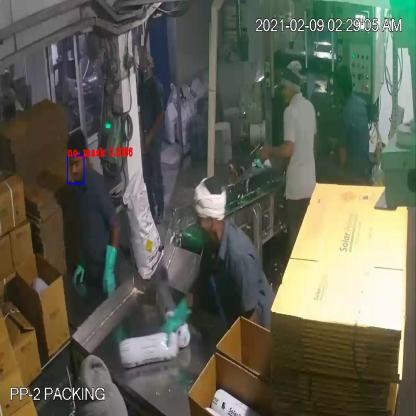glove: (152, 298, 197, 348), (99, 234, 120, 302), (70, 248, 94, 288)
no_glove: (249, 133, 299, 163), (143, 113, 169, 148)
